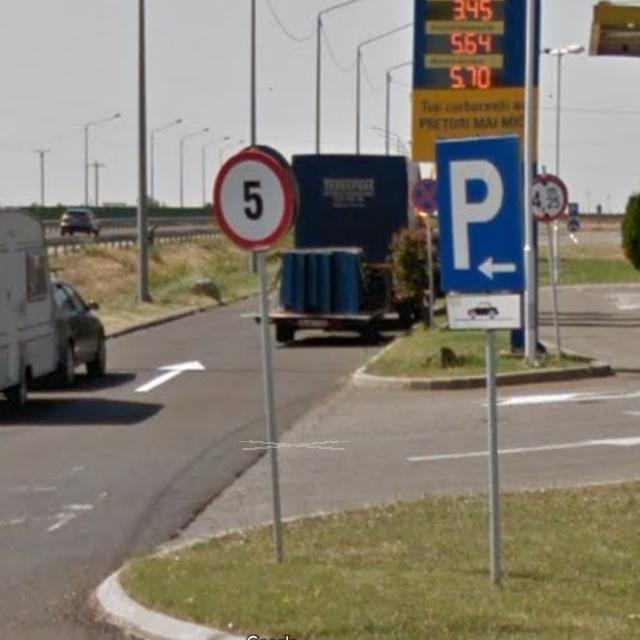forb_waiting: (412, 178, 438, 211)
